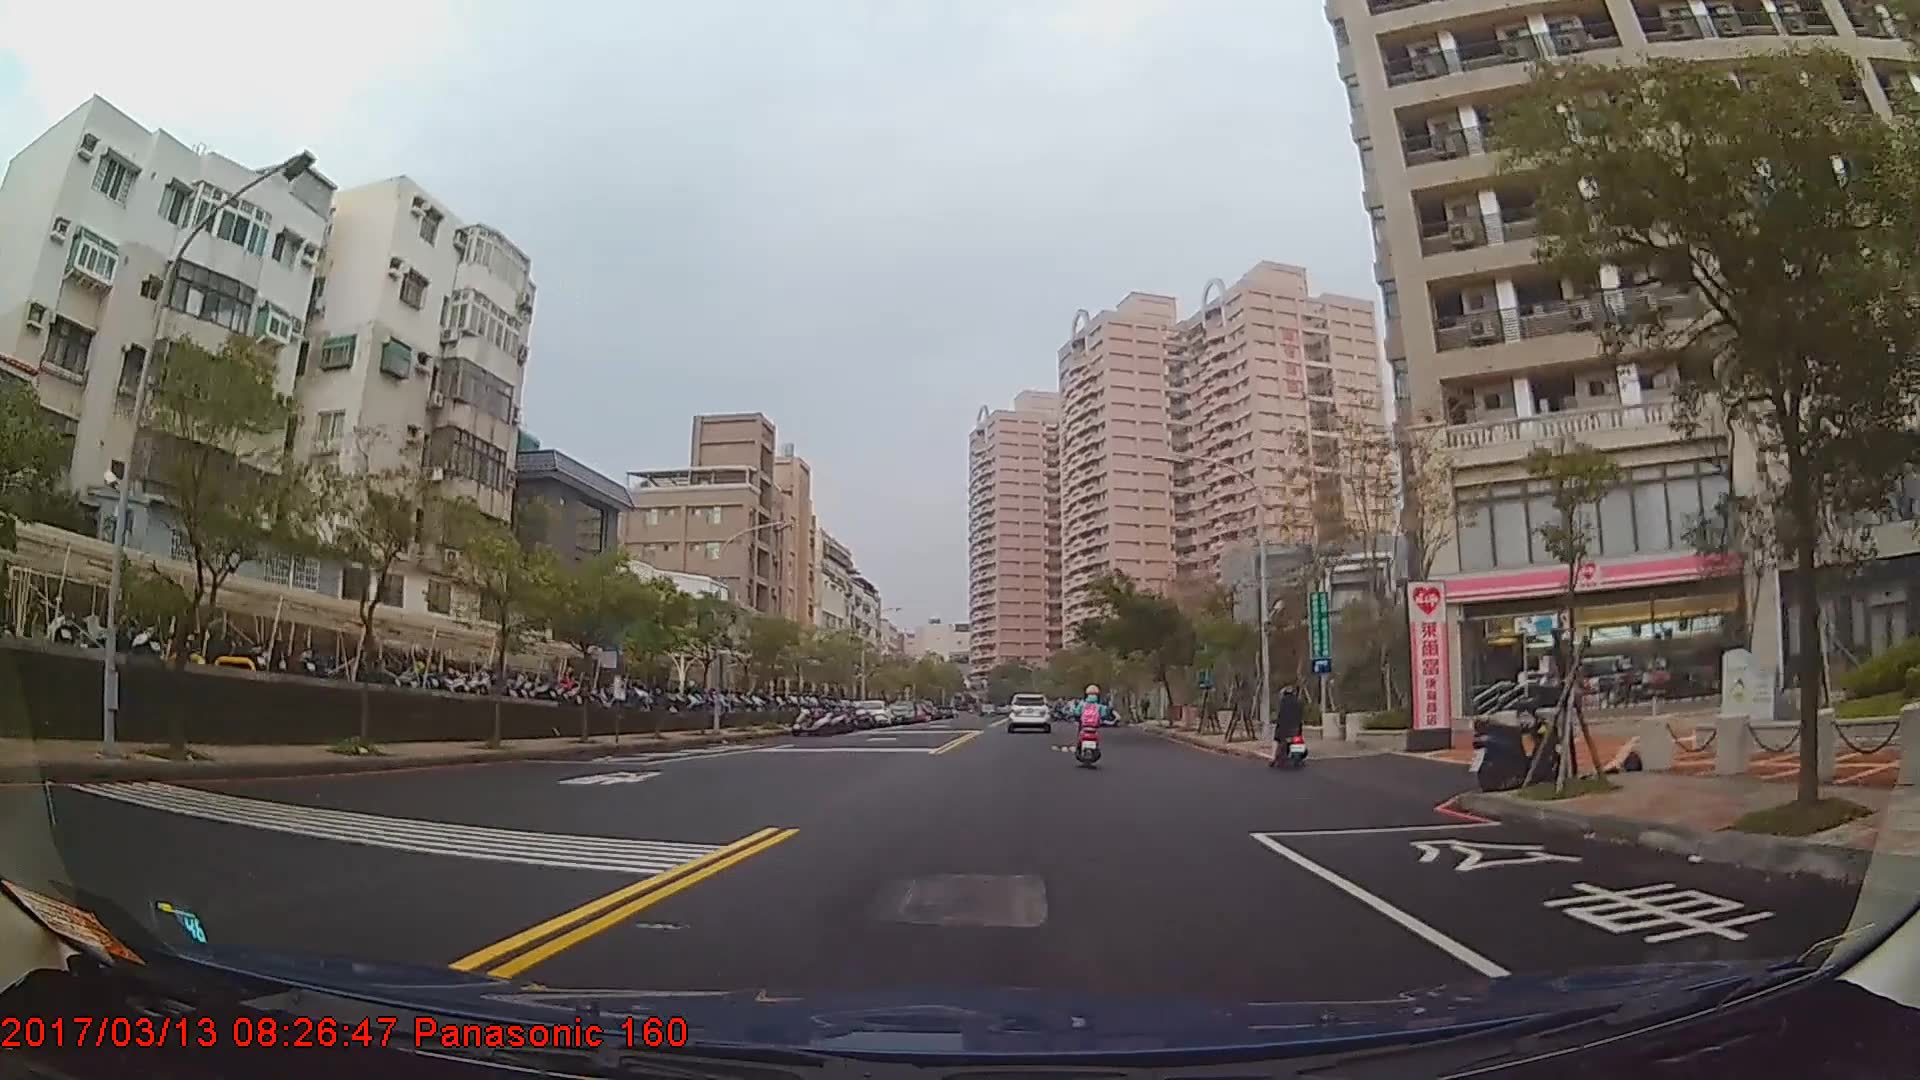rider: (1268, 687, 1312, 769), (1071, 686, 1110, 768)
vehicle: (1002, 690, 1053, 734), (852, 698, 888, 725)
